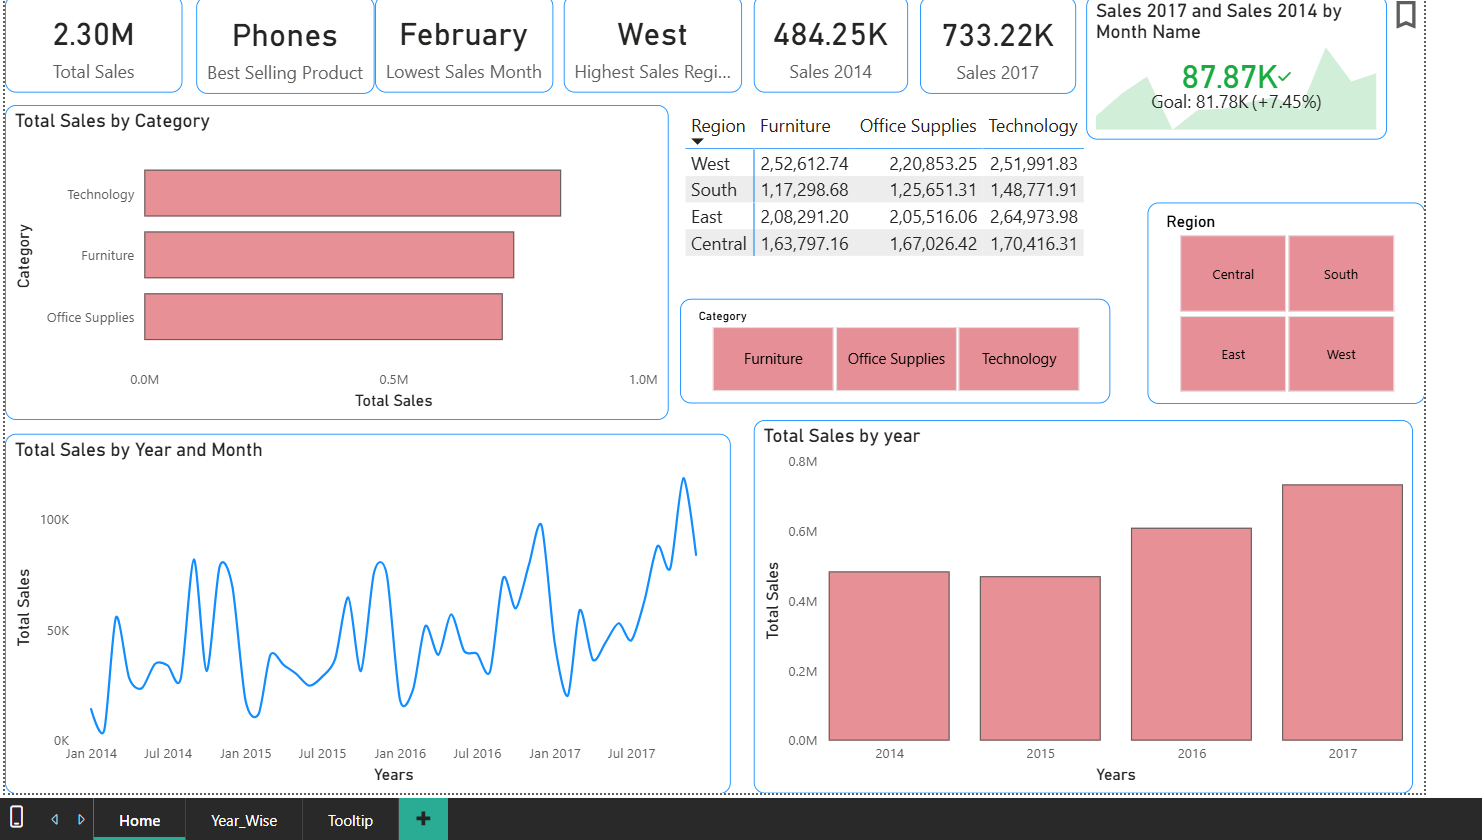

This screenshot's page, from the dashboard's own definition file:
{"tool":"powerbi","page":{"name":"Home","canvas":[1280,720],"ordinal":0},"visuals":[{"type":"barChart","title":"Total Sales by Category","fields":{"Y":["Sum(Sample - Superstore.Sales)"],"Category":["Sample - Superstore.Category"]},"box":[0,99.5,598.3,283.6],"z":0},{"type":"lineChart","title":"Total Sales by Year and Month","fields":{"Y":["Sum(Sample - Superstore.Sales)"],"Category":["Sample - Superstore.Order Date.Variation.Date Hierarchy.Year","Sample - Superstore.Order Date.Variation.Date Hierarchy.Month"]},"box":[0,395.6,654.3,324.7],"z":1000},{"type":"pivotTable","fields":{"Rows":["Sample - Superstore.Region"],"Values":["Sum(Sample - Superstore.Sales)"],"Columns":["Sample - Superstore.Category"]},"box":[608.3,99.5,379.4,172.9],"z":2000},{"type":"slicer","fields":{"Values":["Sample - Superstore.Category"]},"box":[608.3,273.7,388.1,94.5],"z":3000},{"type":"slicer","fields":{"Values":["Sample - Superstore.Region"]},"box":[1030,186.6,250,181.6],"z":4000},{"type":"card","title":"Total Sales","fields":{"Values":["Superstore.Total Sales"]},"box":[0,0,160,88],"z":5000},{"type":"card","fields":{"Values":["Superstore.Best Selling Product"]},"box":[172.9,1.2,160.5,88.3],"z":6000},{"type":"card","fields":{"Values":["Superstore.Lowest Sales Month"]},"box":[333.4,0,160.5,88.3],"z":7000},{"type":"card","fields":{"Values":["Superstore.Highest Sales Region"]},"box":[503.8,0,160.5,88.3],"z":8000},{"type":"card","fields":{"Values":["Superstore.Sales 2014"]},"box":[675.5,0,139.3,88.3],"z":9000},{"type":"card","fields":{"Values":["Superstore.Sales 2017"]},"box":[824.7,1.2,140.6,88.3],"z":10000},{"type":"kpi","fields":{"Goal":["Superstore.Sales 2014"],"Indicator":["Superstore.Sales 2017"],"TrendLine":["Superstore.Month Name"]},"box":[975.3,0,271.2,130.6],"z":11000},{"type":"clusteredColumnChart","title":"Total Sales by year","fields":{"Category":["Superstore.year"],"Y":["Sum(Superstore.Sales)"]},"box":[675.5,383.1,594.6,337.1],"z":12000},{"type":"actionButton","box":[1246.4,0,33.6,34.8],"z":13000}]}

Visuals, with their boxes on the page's 1280x720 design canvas (x1, y1, x2, y2). These are canvas units, not pixel positions in the 1482x840 screenshot, which may show the page scaled, cropped or inside an application window:
"Total Sales by Category" barChart: <bbox>0, 100, 598, 383</bbox>
"Total Sales by Year and Month" lineChart: <bbox>0, 396, 654, 720</bbox>
pivotTable - Sample - Superstore.Region x Sum(Sample - Superstore.Sales): <bbox>608, 100, 988, 272</bbox>
slicer - Sample - Superstore.Category: <bbox>608, 274, 996, 368</bbox>
slicer - Sample - Superstore.Region: <bbox>1030, 187, 1280, 368</bbox>
"Total Sales" card: <bbox>0, 0, 160, 88</bbox>
card - Superstore.Best Selling Product: <bbox>173, 1, 333, 90</bbox>
card - Superstore.Lowest Sales Month: <bbox>333, 0, 494, 88</bbox>
card - Superstore.Highest Sales Region: <bbox>504, 0, 664, 88</bbox>
card - Superstore.Sales 2014: <bbox>676, 0, 815, 88</bbox>
card - Superstore.Sales 2017: <bbox>825, 1, 965, 90</bbox>
kpi - Superstore.Sales 2014 x Superstore.Sales 2017: <bbox>975, 0, 1246, 131</bbox>
"Total Sales by year" clusteredColumnChart: <bbox>676, 383, 1270, 720</bbox>
actionButton: <bbox>1246, 0, 1280, 35</bbox>
